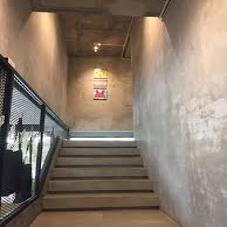Stair Up: (43, 140, 159, 211)
